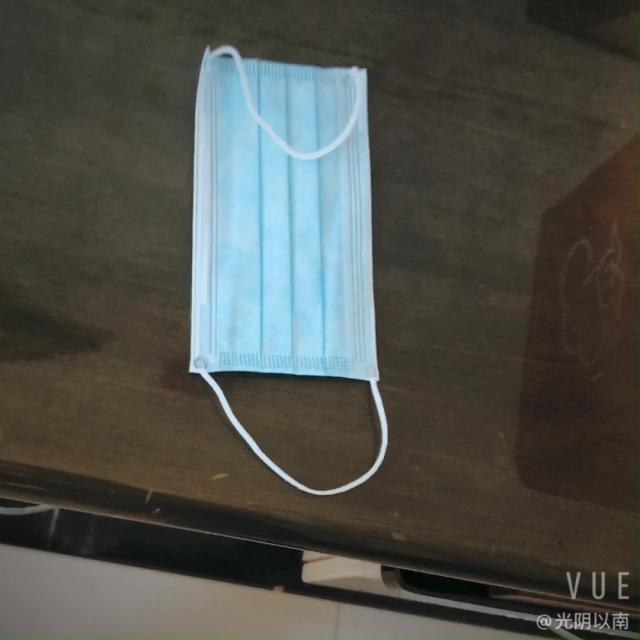face mask: (165, 43, 386, 400)
